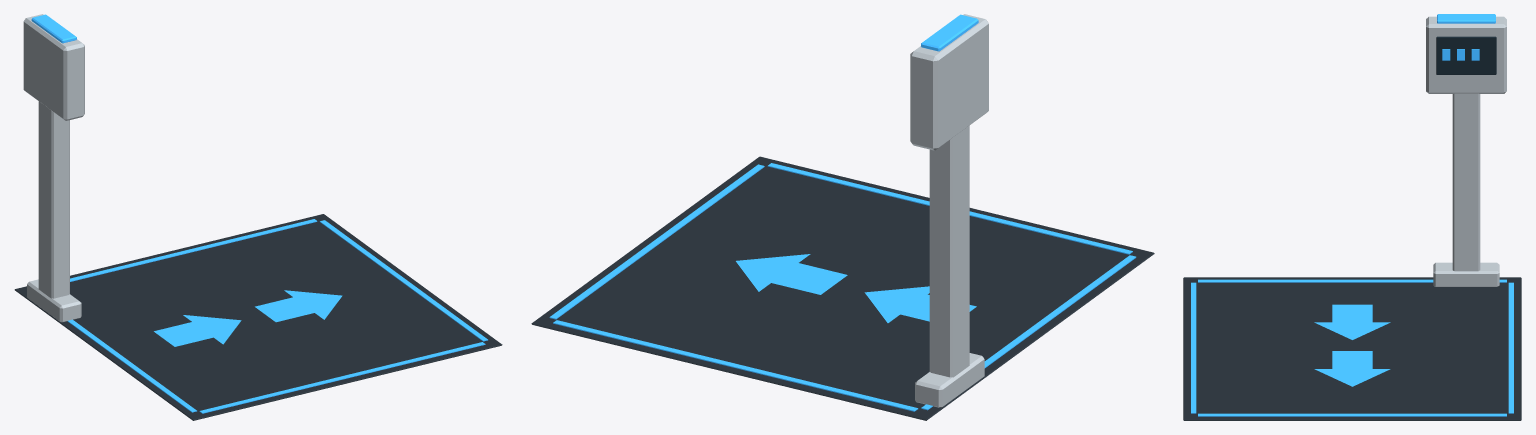
Rendered from pickup.glb.
3 renders of one model, left to right at view 1: azimuth 30°, elevation 25°; view 2: azimuth 150°, elevation 25°; view 3: azimuth 270°, elevation 25°, orthographic. The views are drawn at different scales.
Parts seen in each view (by area): view 1: Pickup_Geometry; view 2: Pickup_Geometry; view 3: Pickup_Geometry.
Boxes of the visible parts, box(x1,y1,x2,y2) form: Pickup_Geometry: box(14, 14, 502, 420); Pickup_Geometry: box(531, 14, 1154, 420); Pickup_Geometry: box(1183, 14, 1521, 420).
Size of the model in its own units: 0.92 by 0.8 by 0.92.
